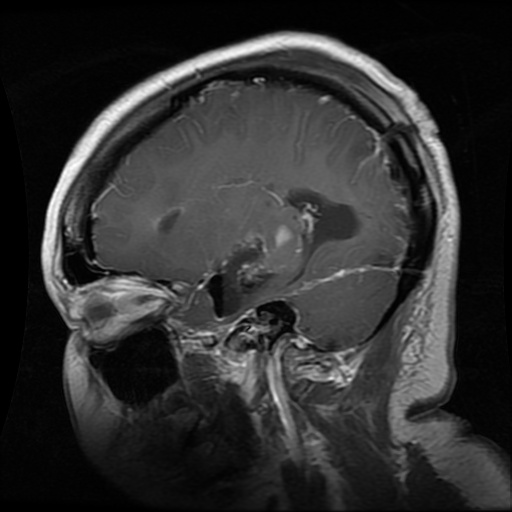glioma: (282, 186, 363, 284)
